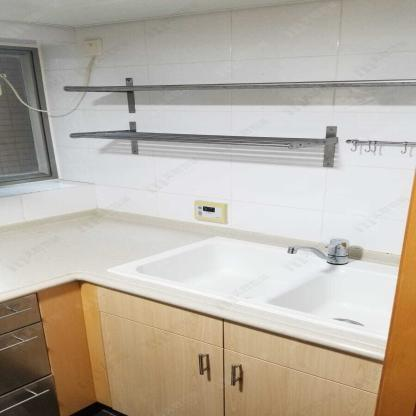Cupboard: (95, 287, 387, 414)
Faucet: (286, 234, 355, 265)
Sink: (90, 230, 400, 352), (113, 235, 397, 341)
